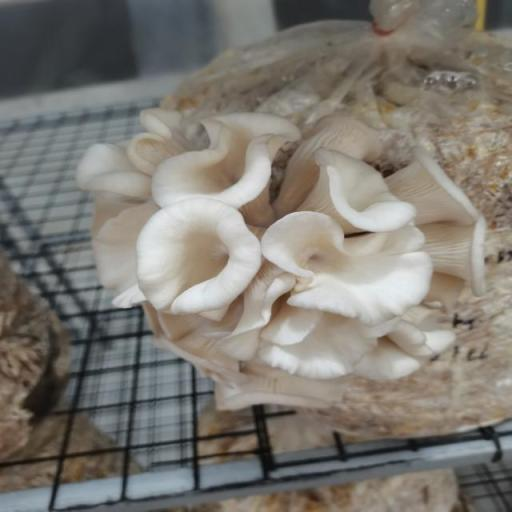White Oyster Mushroom: (54, 97, 506, 400)
